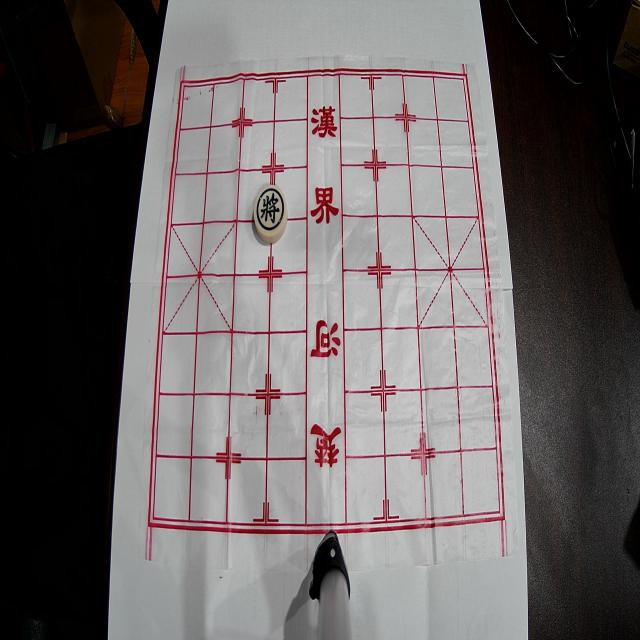black-general: (254, 185, 288, 243)
